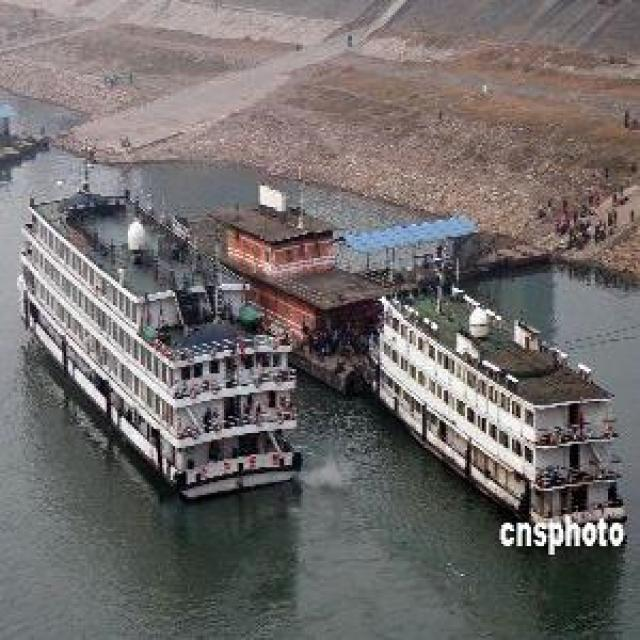passenger ship: (17, 183, 301, 495), (372, 275, 624, 531), (196, 184, 393, 386)
